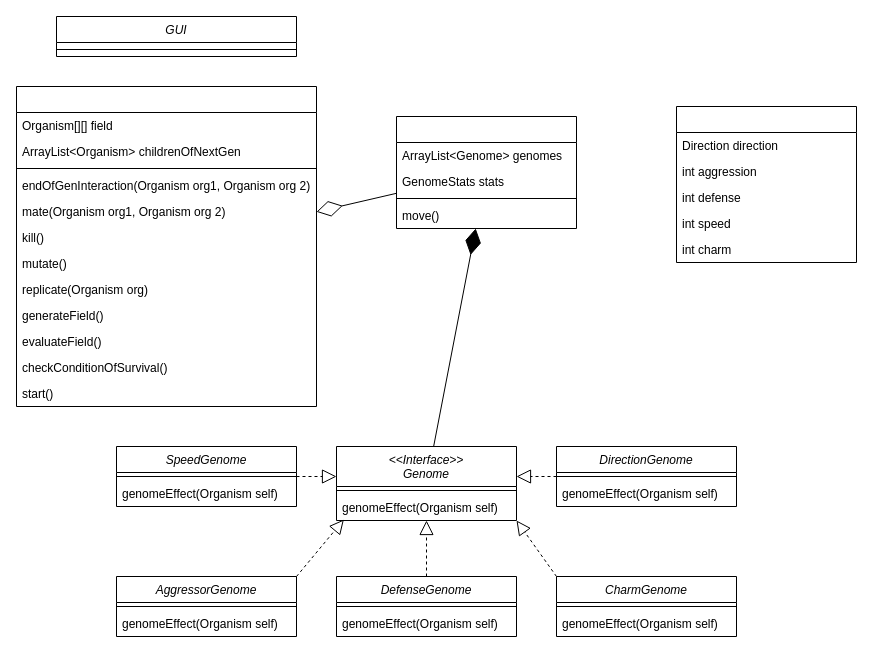
The diagram is 873 pixels wide and 653 high, and some of its shapes have lost their labels. The shapes that lost their labels are listed below. From the top down, each one's box as (x1, y1, x2, y2) in pixels, then its label:
(396, 116, 576, 228): Organism
(676, 106, 856, 262): GenomeStats
(16, 86, 316, 406): Manager
